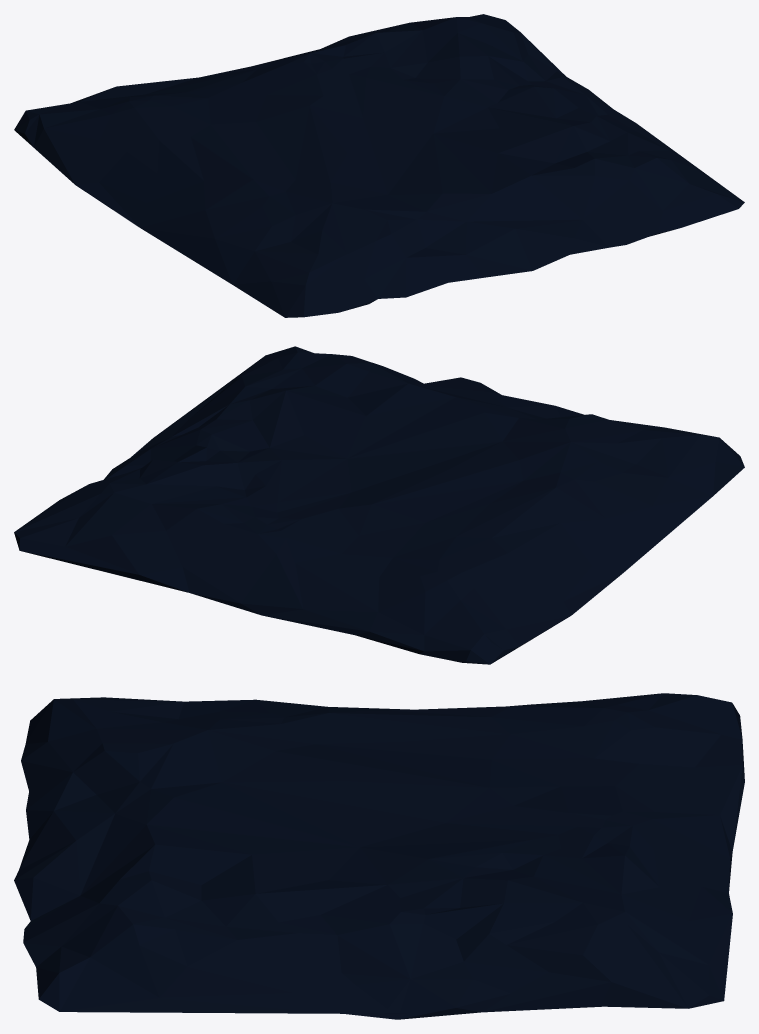
Rendered from CaveFloor1.fbx.
3 renders of one model, top to bottom at view 1: azimuth 30°, elevation 25°; view 2: azimuth 150°, elevation 25°; view 3: azimuth 270°, elevation 25°, orthographic. The views are drawn at different scales.
Parts seen in each view (by area): view 1: Floor1; view 2: Floor1; view 3: Floor1.
Boxes of the visible parts, left/top/right/bottom form: Floor1: left=14, top=14, right=744, bottom=317; Floor1: left=14, top=346, right=744, bottom=664; Floor1: left=14, top=693, right=744, bottom=1019.
Bounding box in the file's own units: 701 × 71.35 × 702.
